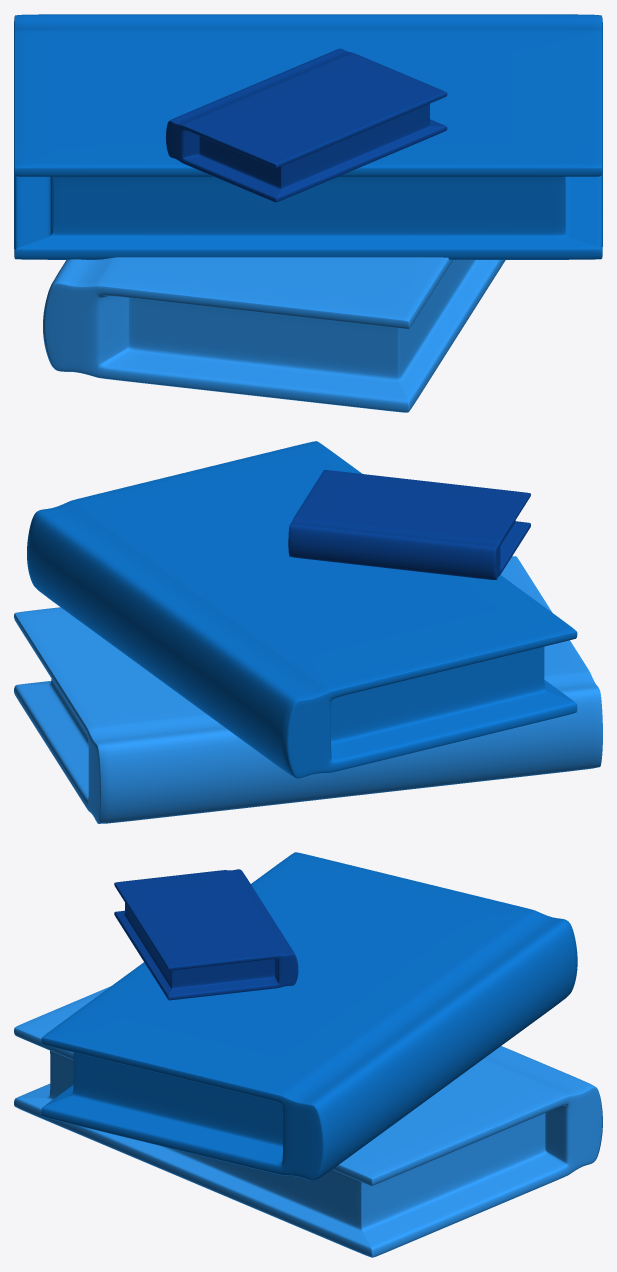
Rendered from Book1.glb.
3 views of the same model, one above another, from view 1: azimuth 30°, elevation 25°; view 2: azimuth 150°, elevation 25°; view 3: azimuth 270°, elevation 25° (orthographic). The views are drawn at different scales.
Visible parts, largest first — view 1: pCube30, pCube29, pCube33; view 2: pCube30, pCube29, pCube33; view 3: pCube30, pCube29, pCube33.
Part boxes in pixels (bbox=[...]): pCube30: bbox=[14, 14, 602, 259]; pCube29: bbox=[43, 257, 505, 412]; pCube33: bbox=[165, 48, 447, 202]; pCube30: bbox=[27, 441, 577, 778]; pCube29: bbox=[14, 556, 602, 823]; pCube33: bbox=[288, 470, 530, 579]; pCube30: bbox=[41, 852, 577, 1180]; pCube29: bbox=[14, 986, 602, 1257]; pCube33: bbox=[114, 869, 298, 1000].
Bounding box in the file's own units: 91.15 × 32.48 × 89.17.
